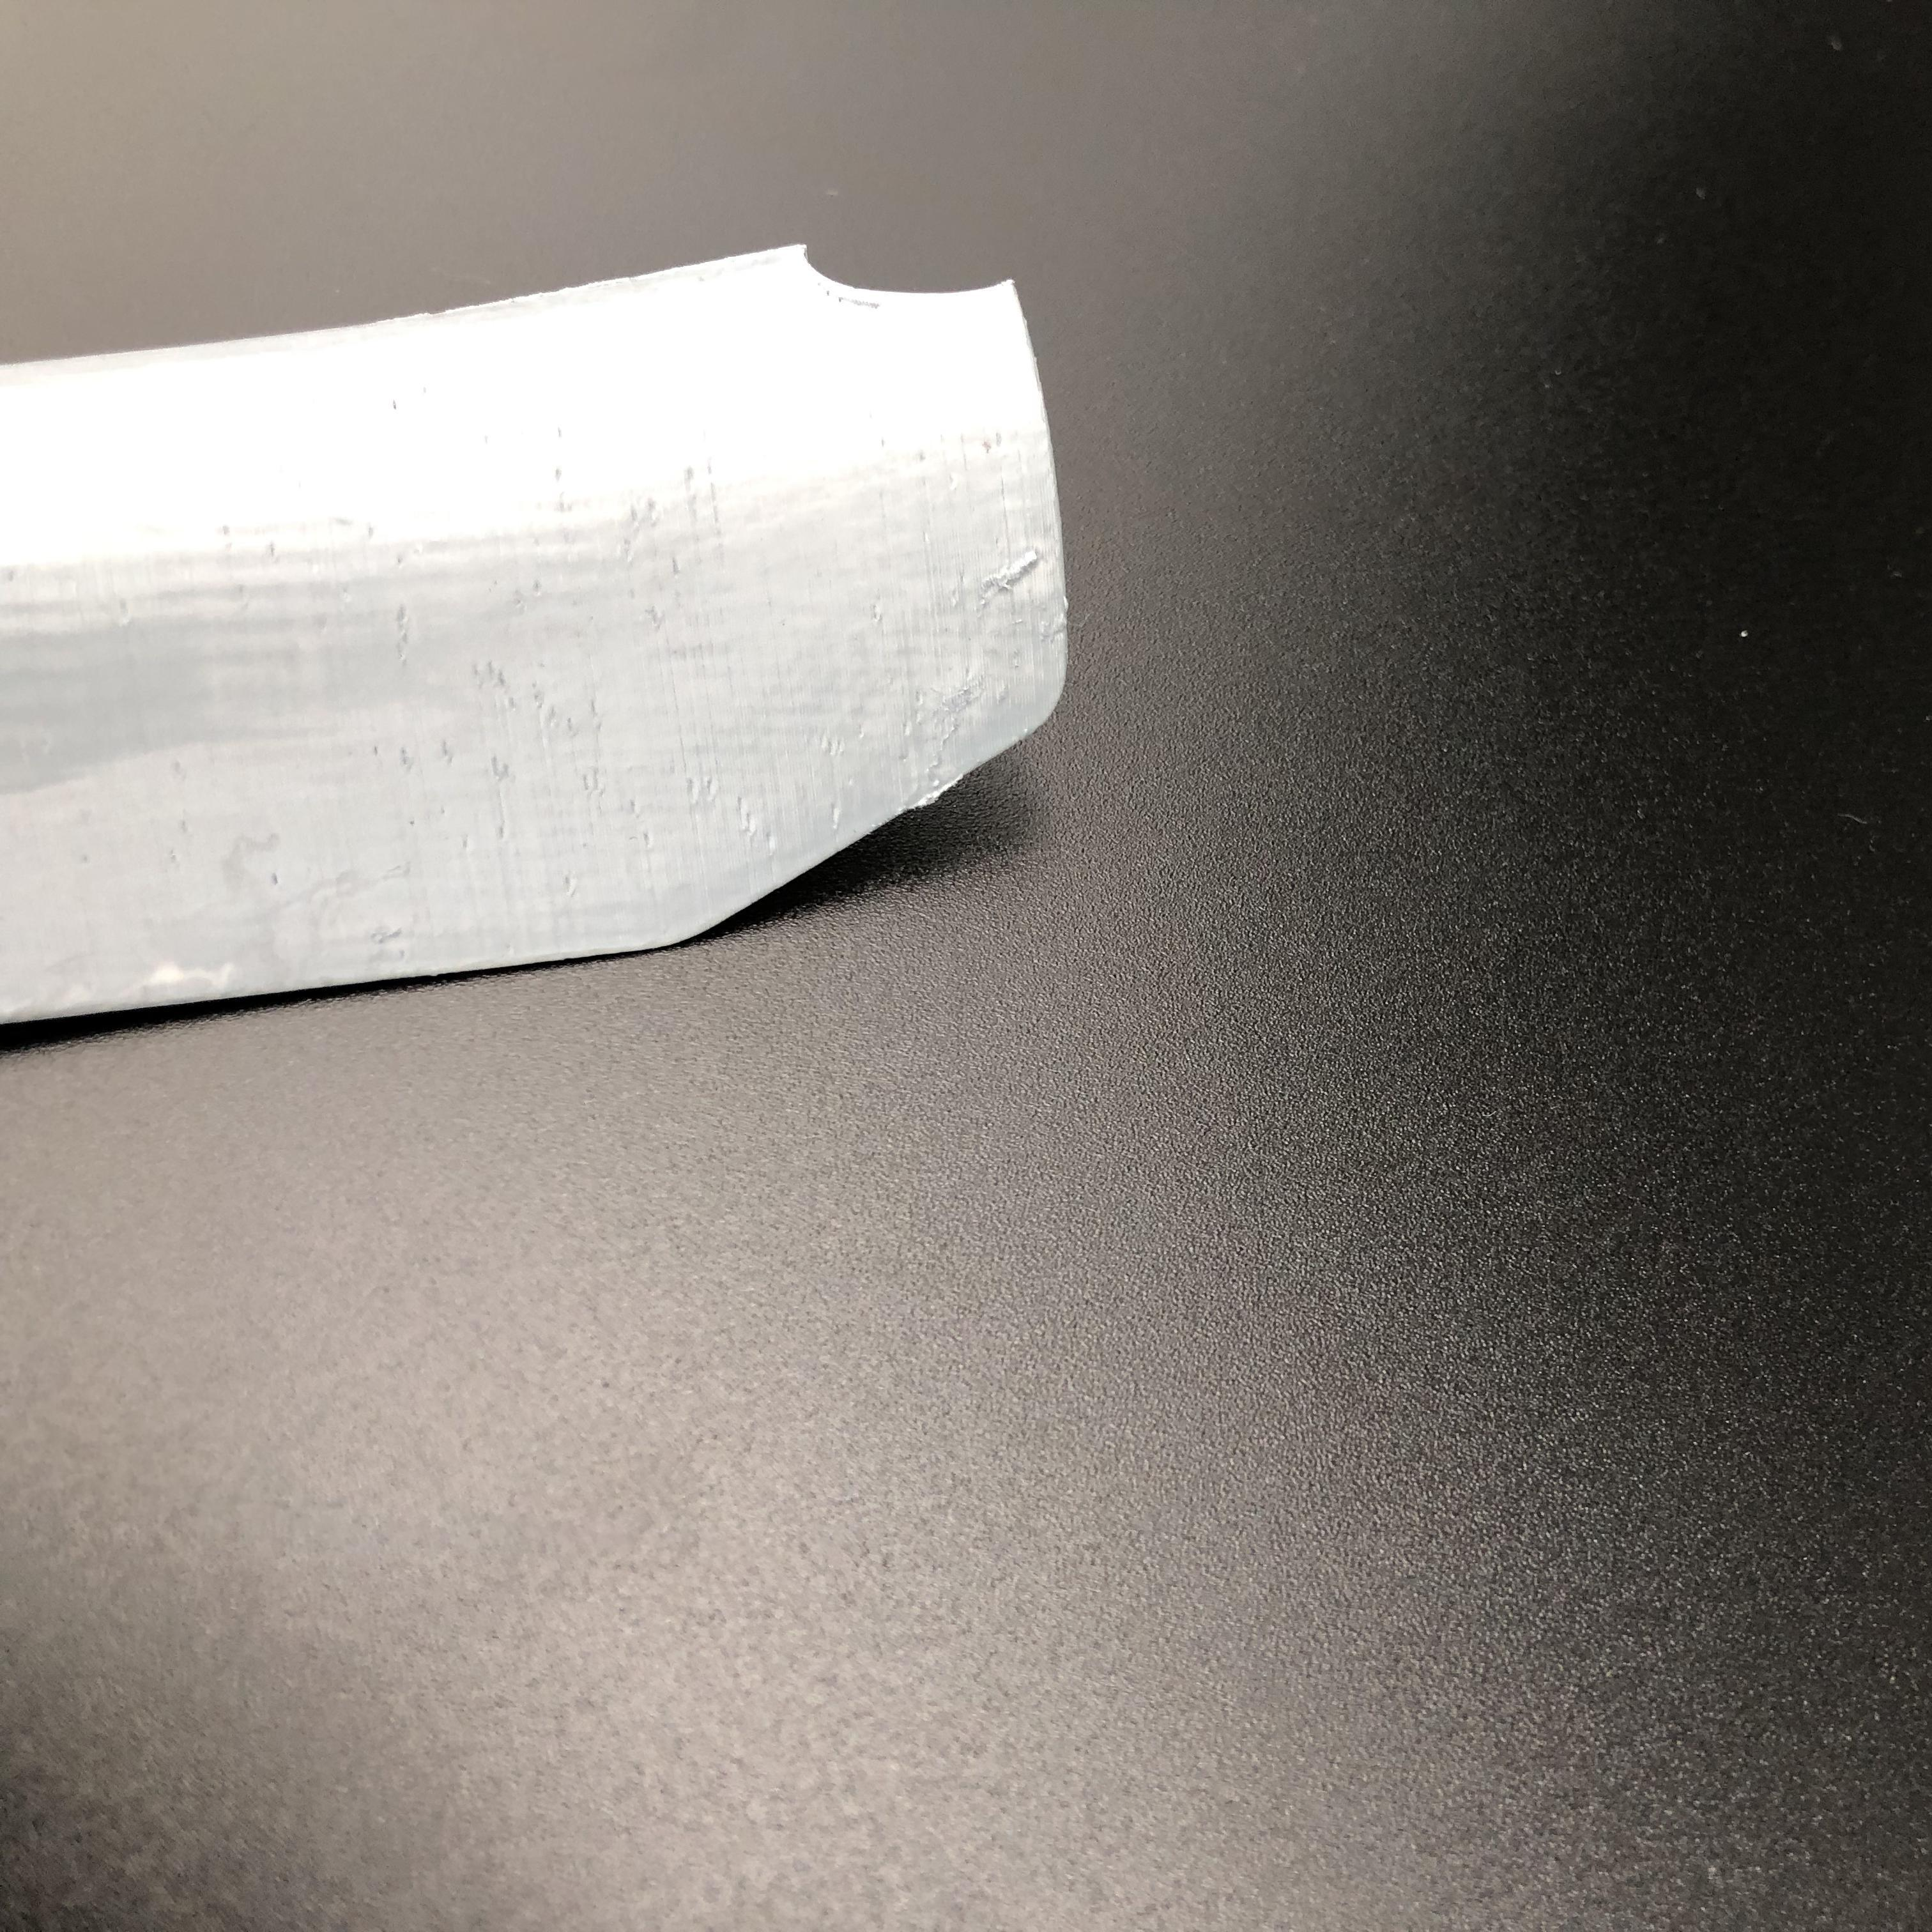fracture: (771, 235, 1030, 306)
